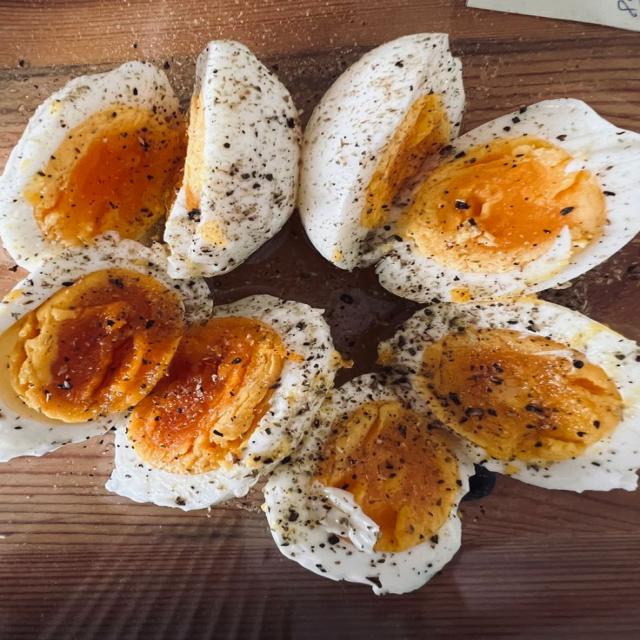eggs: (26, 76, 596, 573)
